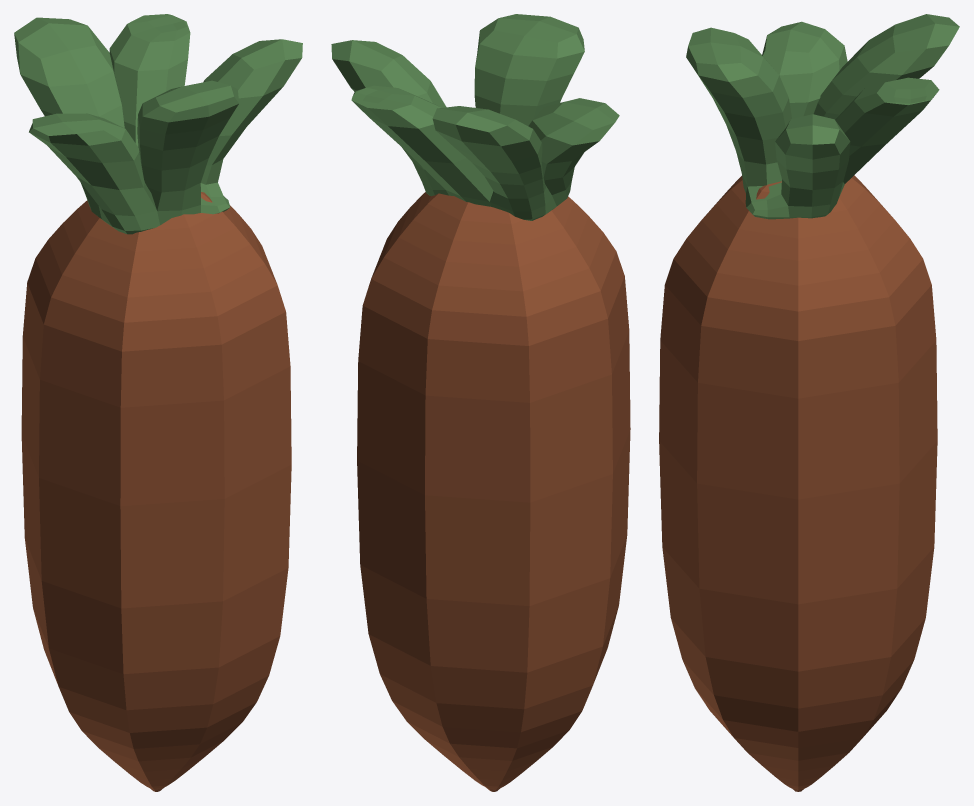
The model's file is carrot.fbx.
3 views of the same model, side by side, from view 1: azimuth 30°, elevation 25°; view 2: azimuth 150°, elevation 25°; view 3: azimuth 270°, elevation 25° (orthographic). The views are drawn at different scales.
Parts seen in each view (by area): view 1: Cube, Cube.001; view 2: Cube, Cube.001; view 3: Cube, Cube.001.
Part boxes in pixels (x1,y1,x2,y2): Cube: (21,192,291,791); Cube.001: (14,14,302,234); Cube: (357,192,630,791); Cube.001: (331,14,619,220); Cube: (659,175,937,791); Cube.001: (686,14,959,219).
Size of the model in its own units: 27.71 by 70.17 by 25.61.
